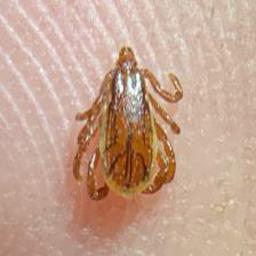Rhipicephalus sanguineus: (72, 47, 184, 201)
